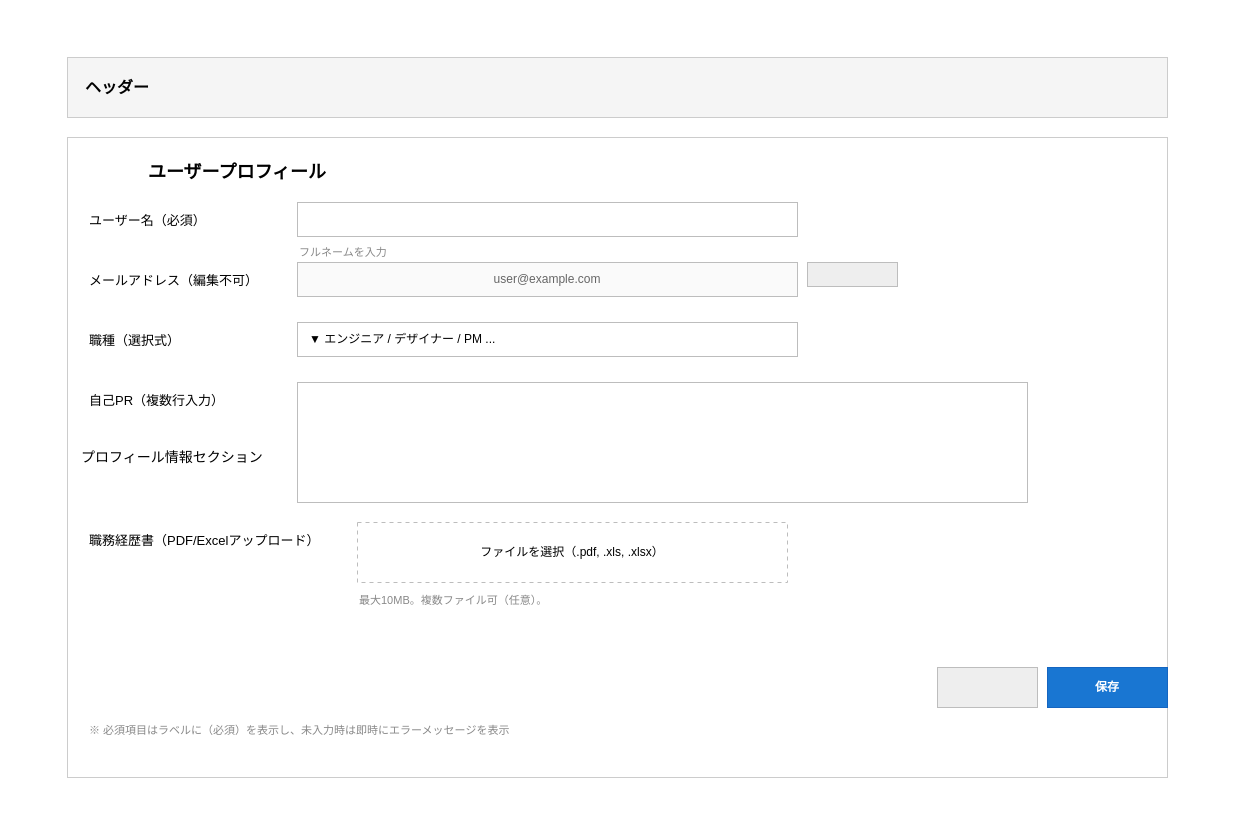
Image size: 1234x834. Some labels were removed from this diagram. The centre of each missing label's shape, as x and y in pixels:
キャンセル: the point at 987,687
実績やスキル、志向などを記入してください。: the point at 662,442
読み取り専用: the point at 852,274
